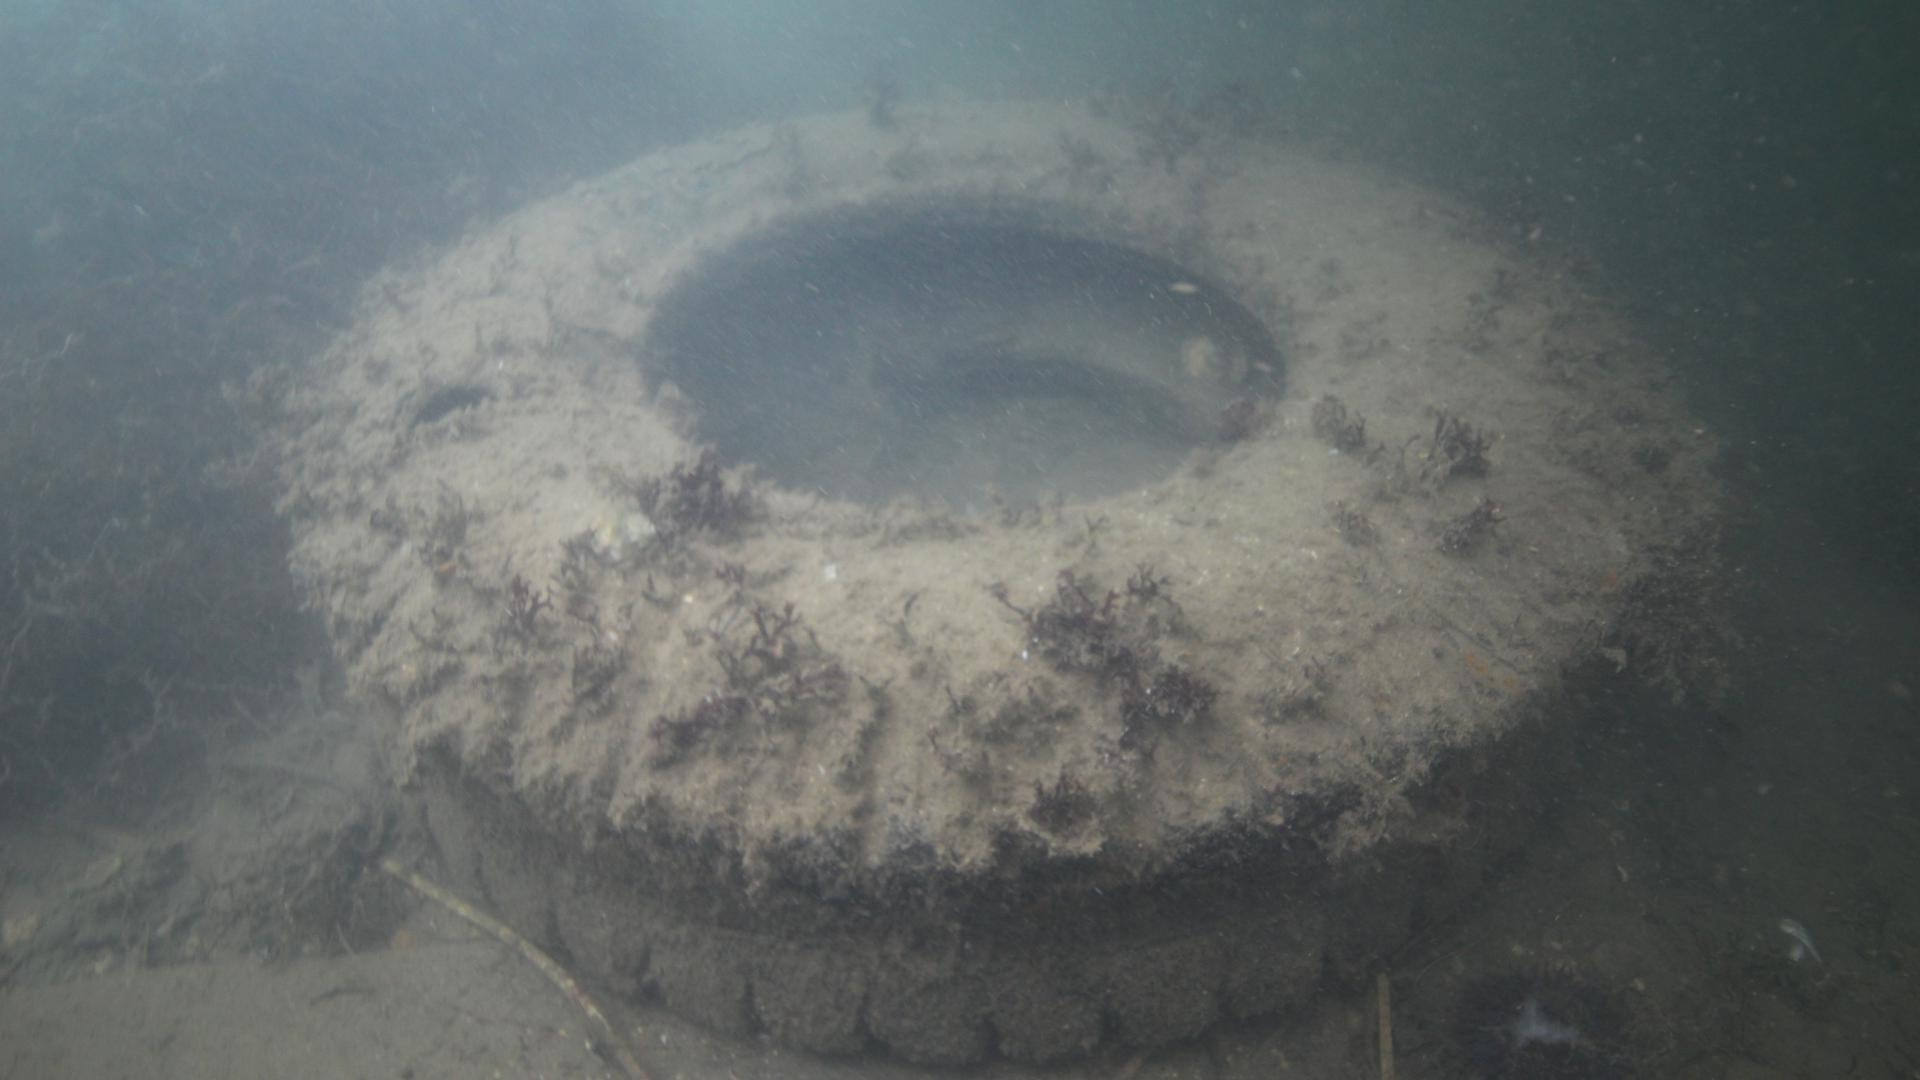tire: (280, 98, 1702, 1069)
